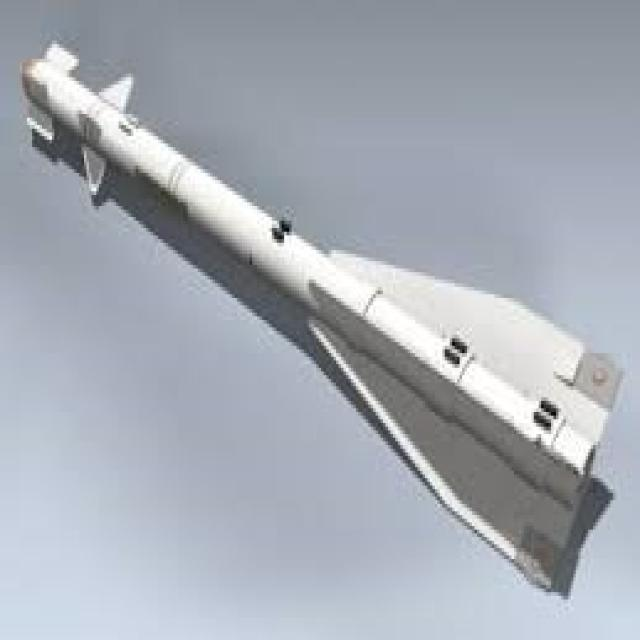missile: (20, 37, 614, 590)
